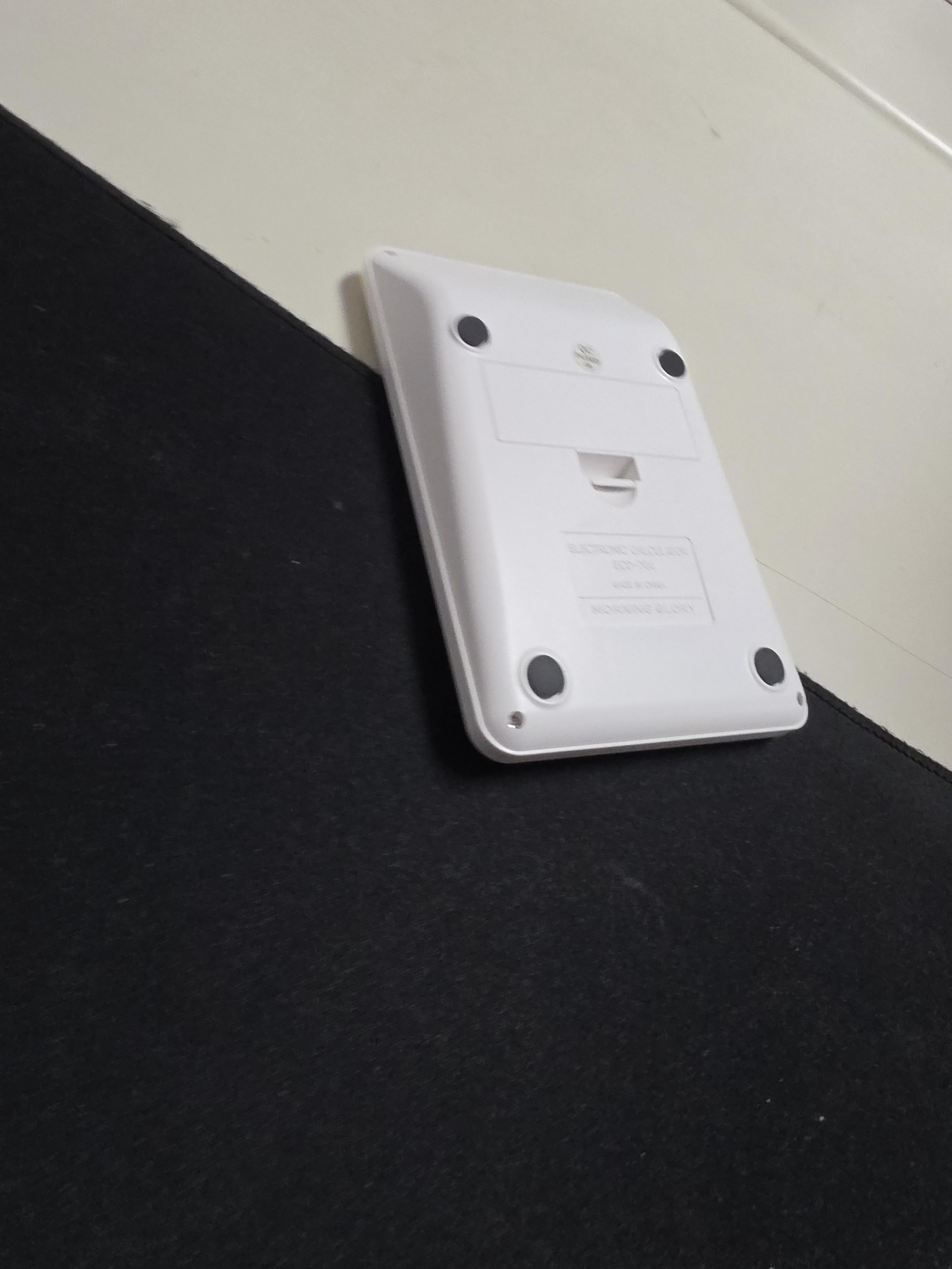calculator: (361, 244, 810, 763)
